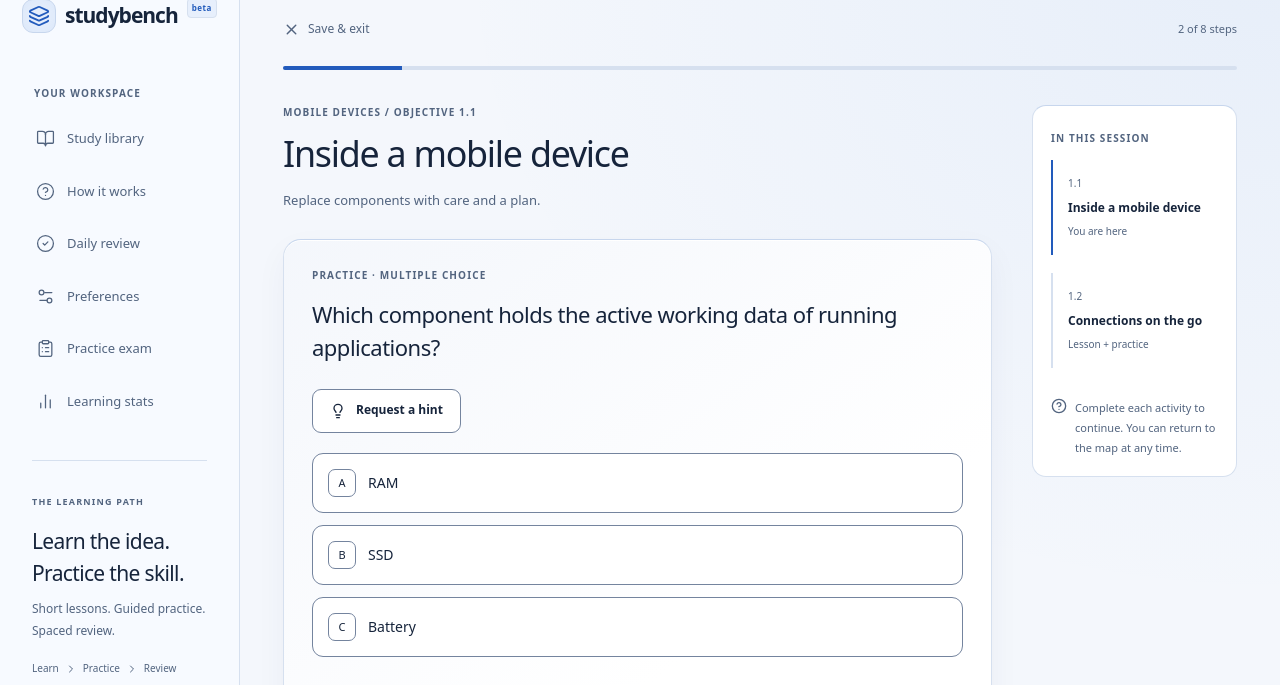
Test: Phase 2 interaction paths › grades a requested hint as hard and shows a subtle XP completion tick
(page scrolled)
Click the button "Request a hint".
click(386, 411)  # box x1=312 y1=389 x2=461 y2=433
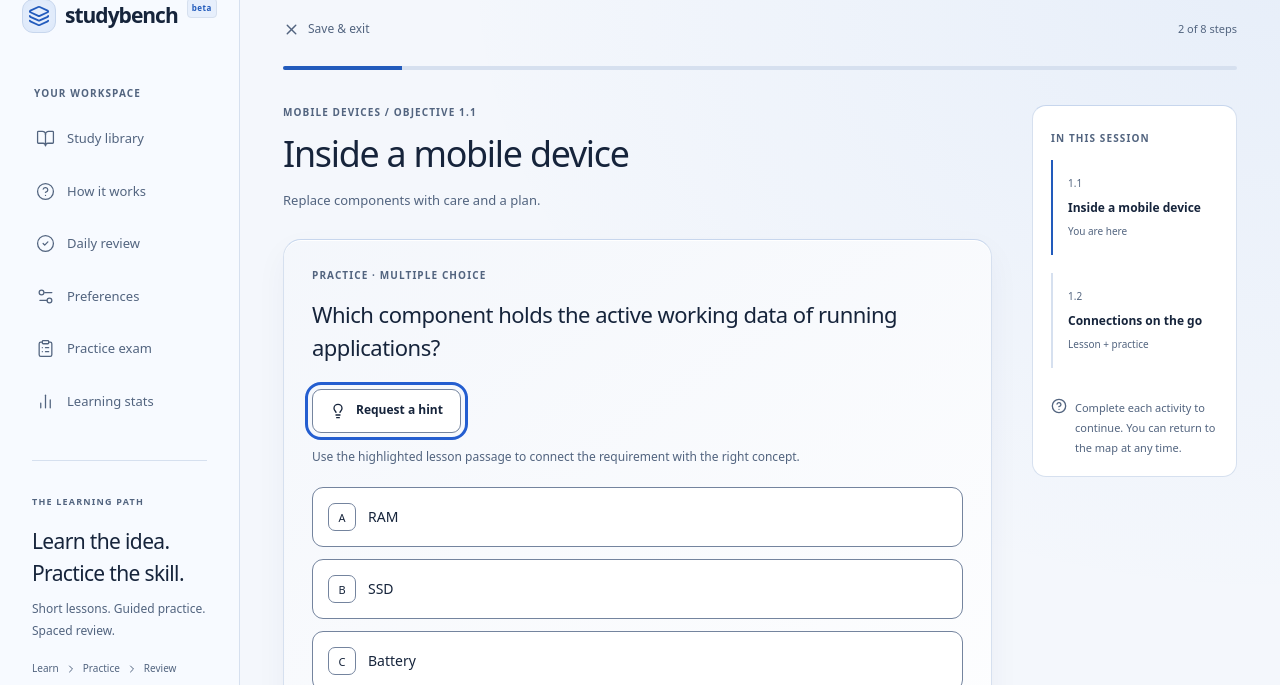
Click the radio button labelled "A RAM".
click(383, 517)  # box x1=312 y1=488 x2=963 y2=548
(page scrolled)
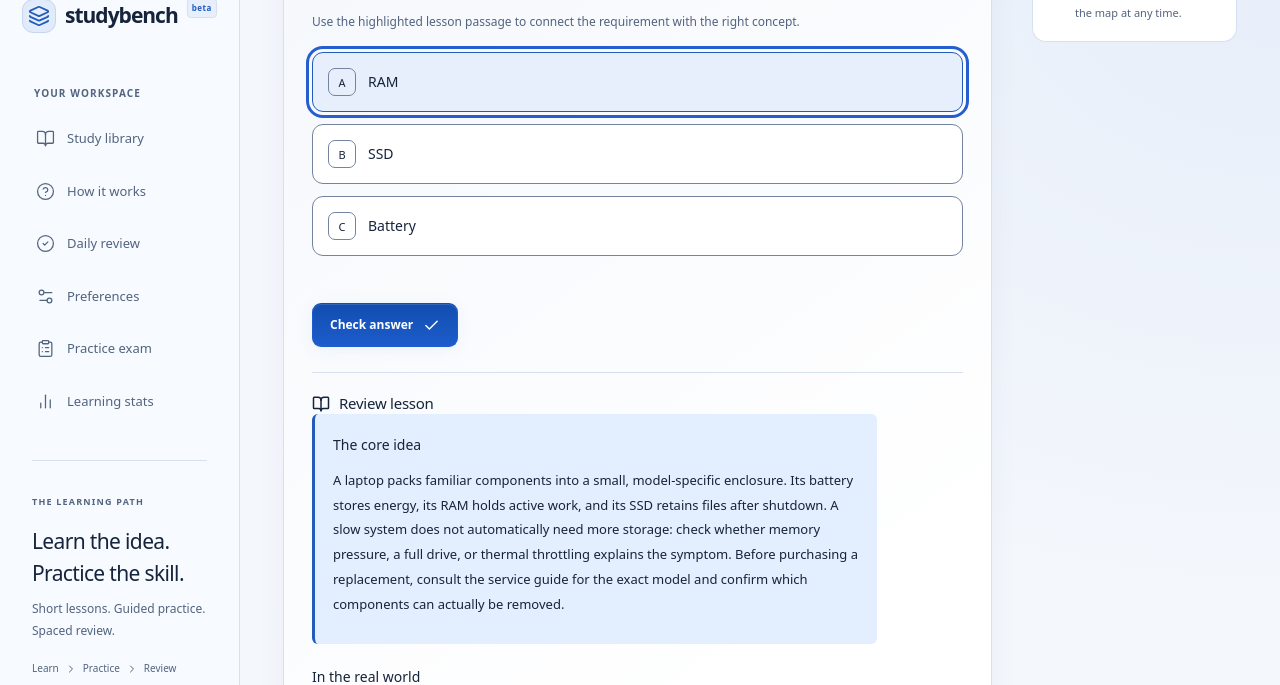
Click the button "Check answer".
click(385, 326)  # box x1=312 y1=304 x2=458 y2=348
(page scrolled)
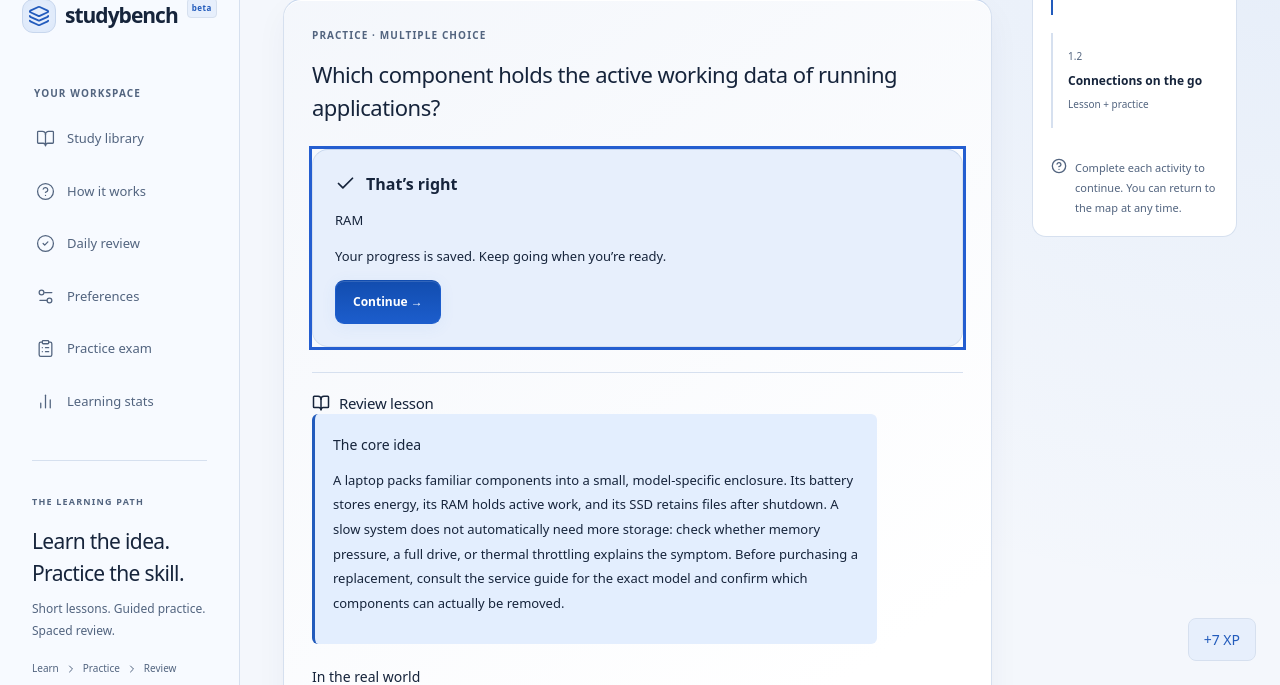
Check: the text "+7 XP" is shown, box x1=1188 y1=618 x2=1256 y2=661
